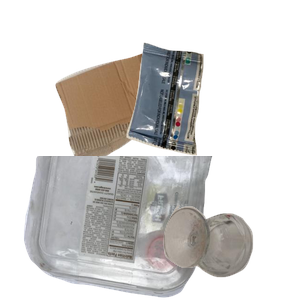cardboard: (53, 45, 221, 204)
glass: (161, 202, 300, 300)
plastic: (21, 156, 226, 300)
trash: (124, 40, 300, 188)
